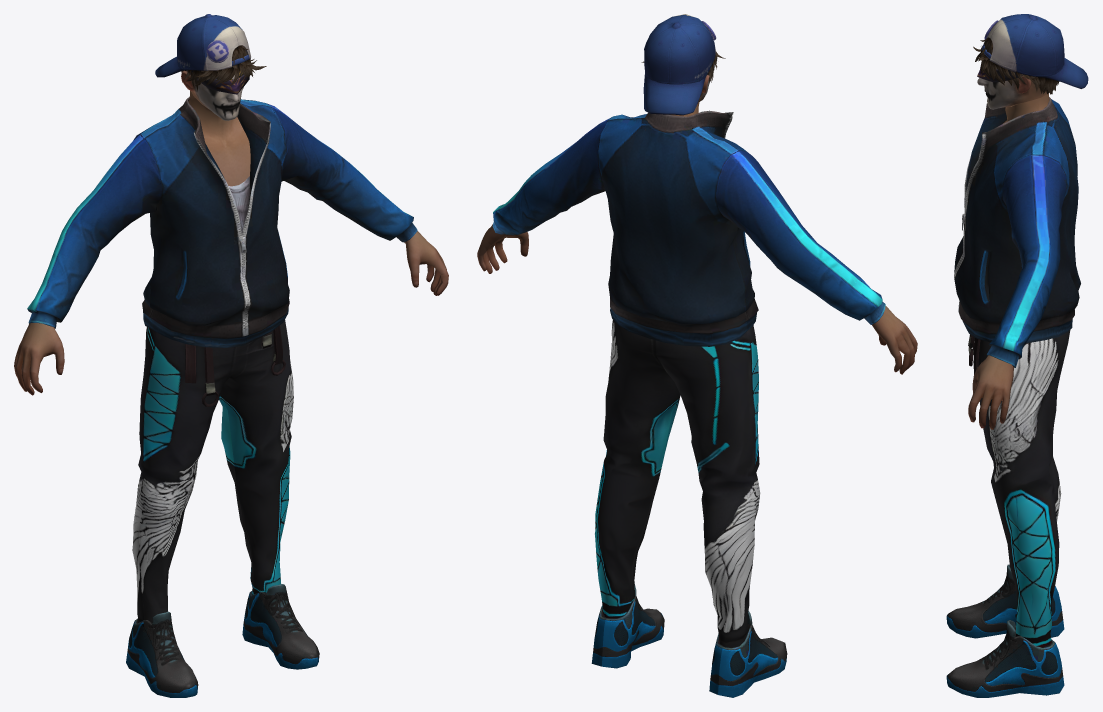
The model's file is raynox.glb.
3 renders of one model, left to right at view 1: azimuth 30°, elevation 25°; view 2: azimuth 150°, elevation 25°; view 3: azimuth 270°, elevation 25°, orthographic.
Parts seen in each view (by area): view 1: raynox 7, raynox 5, raynox 6, raynox 2, raynox 4, raynox 3, raynox 8; view 2: raynox 7, raynox 5, raynox 6, raynox 4, raynox 2; view 3: raynox 7, raynox 5, raynox 6, raynox 4, raynox 2, raynox 3, raynox 8.
Part boxes in pixels (x1,y1,x2,y2): raynox 7: [27, 96, 417, 347]; raynox 5: [132, 320, 293, 622]; raynox 6: [126, 584, 319, 697]; raynox 2: [14, 90, 448, 395]; raynox 4: [155, 14, 250, 77]; raynox 3: [181, 70, 243, 120]; raynox 8: [181, 45, 266, 91]; raynox 7: [492, 110, 885, 346]; raynox 5: [595, 319, 760, 647]; raynox 6: [591, 584, 787, 697]; raynox 4: [643, 14, 716, 115]; raynox 2: [477, 102, 917, 374]; raynox 7: [954, 97, 1080, 367]; raynox 5: [968, 330, 1070, 647]; raynox 6: [946, 564, 1064, 697]; raynox 4: [981, 14, 1088, 88]; raynox 2: [968, 93, 1049, 429]; raynox 3: [977, 76, 1046, 109]; raynox 8: [973, 37, 1059, 94].
Size of the model in its own units: 0.631 by 0.9103 by 0.1821.
8 materials, 8 textured.
